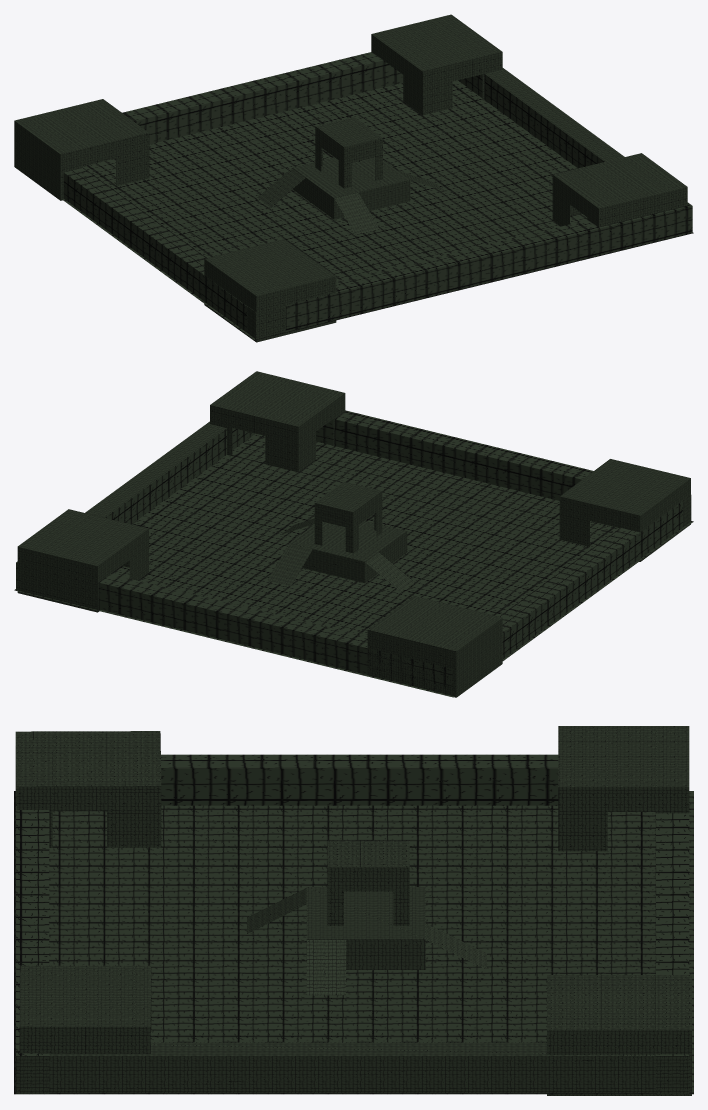
The model's file is levelexport.fbx.
The picture shows the model from 3 angles, top to bottom: view 1: azimuth 30°, elevation 25°; view 2: azimuth 150°, elevation 25°; view 3: azimuth 270°, elevation 25°; orthographic projection. The views are drawn at different scales.
Parts seen in each view (by area): view 1: pPlane6; view 2: pPlane6; view 3: pPlane6.
Part boxes in pixels (box(x1,y1,x2,y2)): pPlane6: box(14, 14, 693, 342); pPlane6: box(14, 371, 693, 697); pPlane6: box(14, 726, 693, 1095).
Bounding box in the file's own units: 145 × 21.8 × 137.
1 material, 1 textured.
